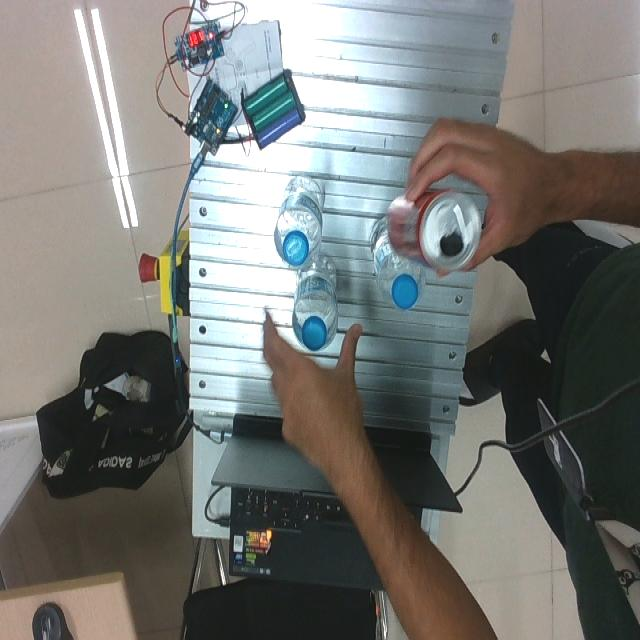coca: (414, 188, 483, 273)
lavie: (367, 215, 426, 312), (291, 256, 339, 353), (274, 176, 324, 269)
